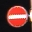No entry: (6, 5, 26, 27)
